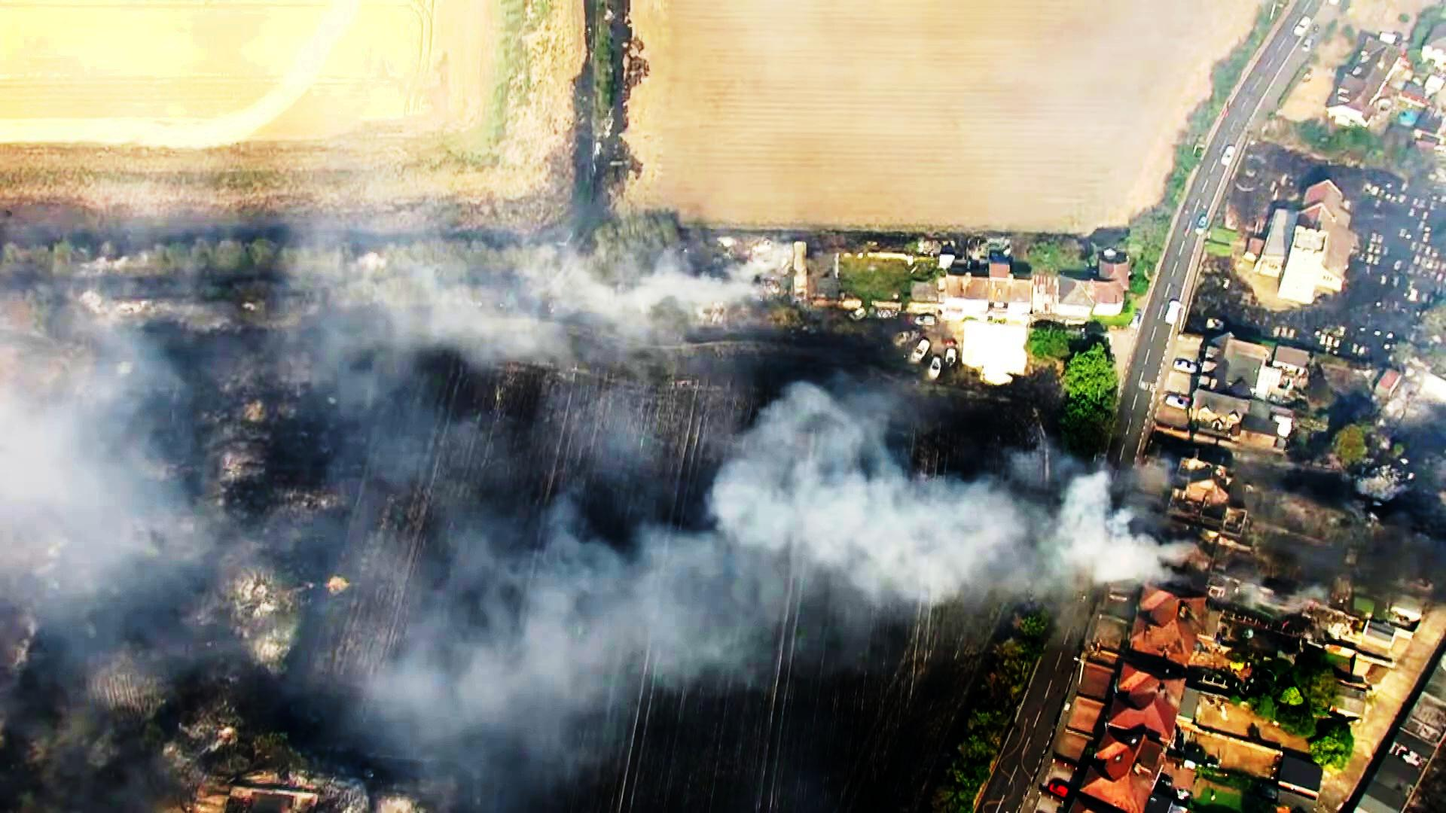smoke: (742, 416, 1133, 581)
